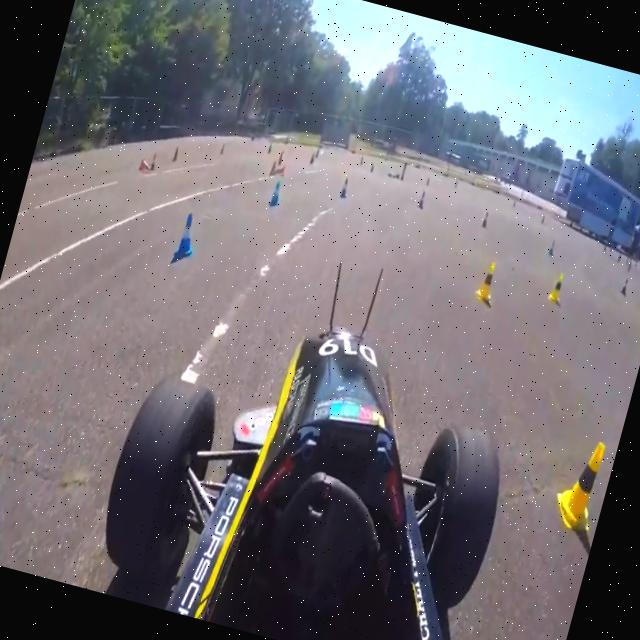blue_cone: (168, 210, 201, 262), (334, 174, 354, 204), (266, 180, 286, 206)
yellow_cone: (550, 436, 609, 536), (472, 258, 498, 304)
